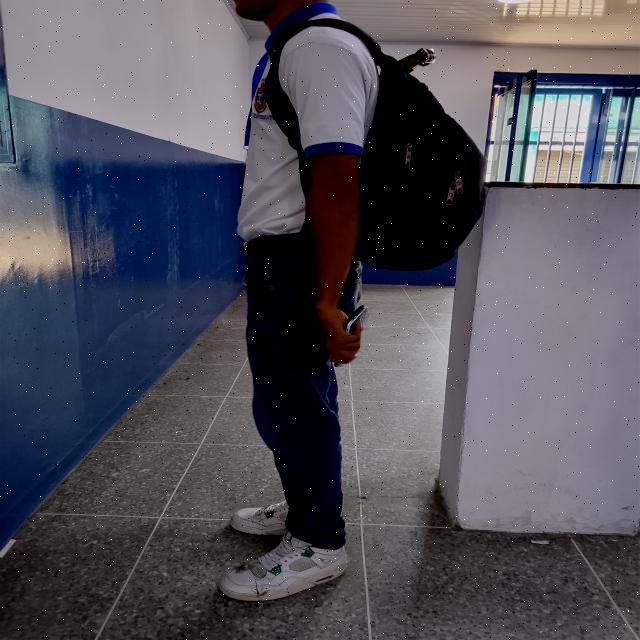pantalon_oscuro: (245, 242, 363, 550)
uniforme_superior: (236, 1, 380, 242)
